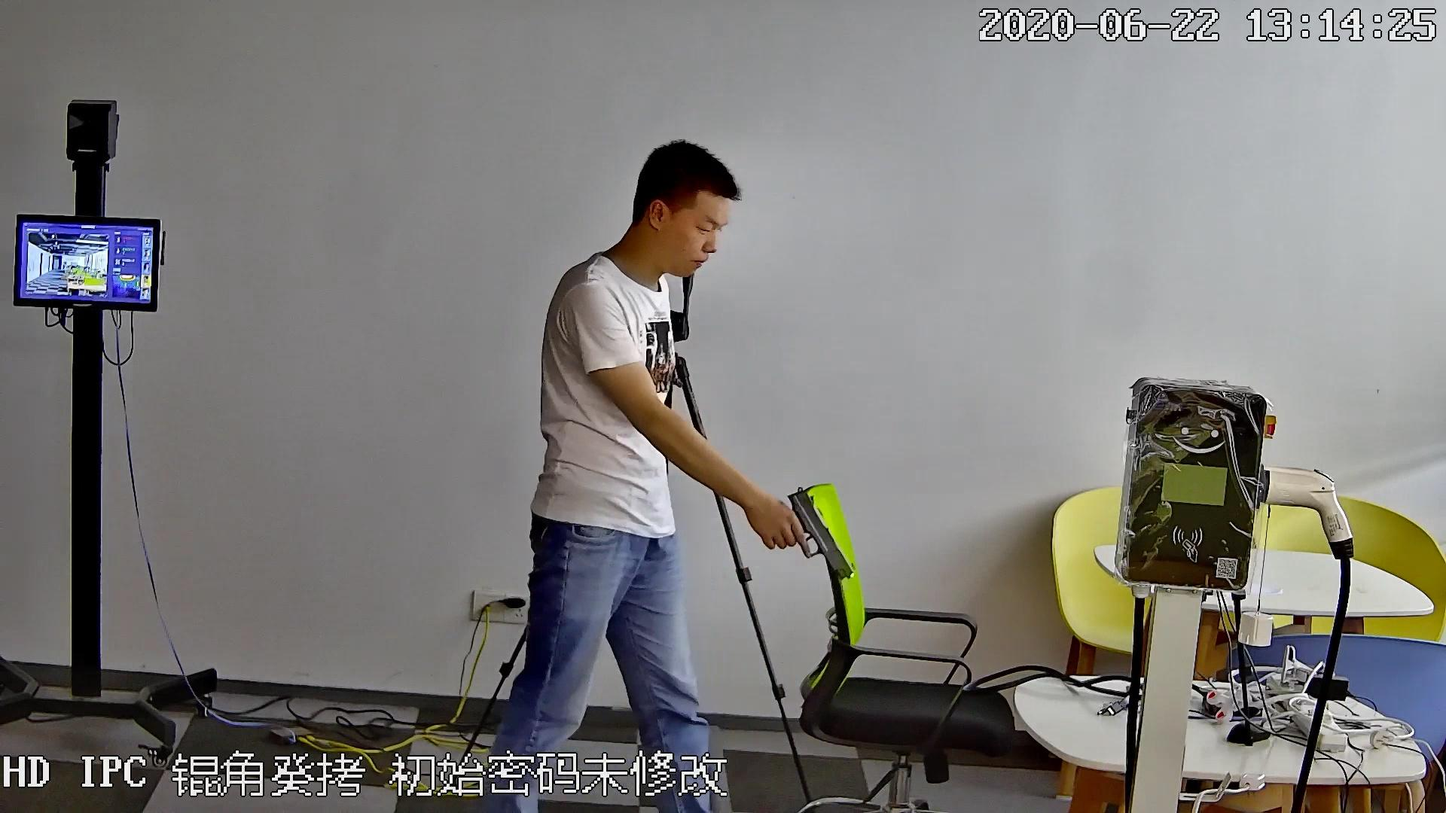gun: (747, 483, 856, 583)
